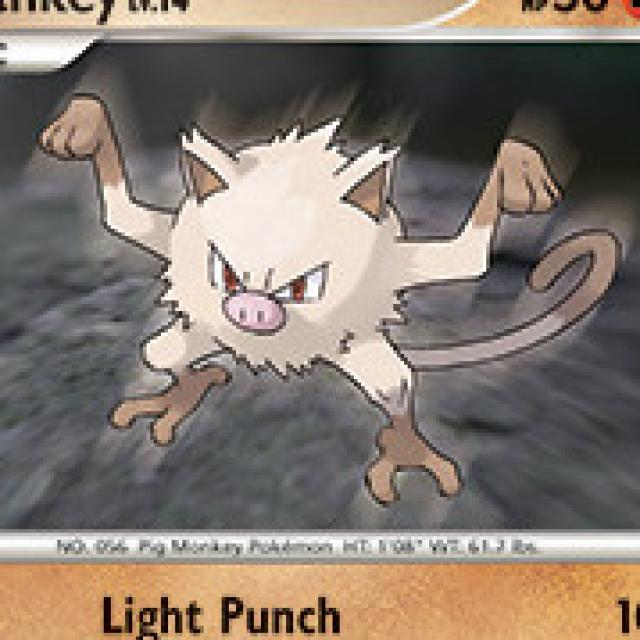Mankey: (23, 95, 550, 431)
